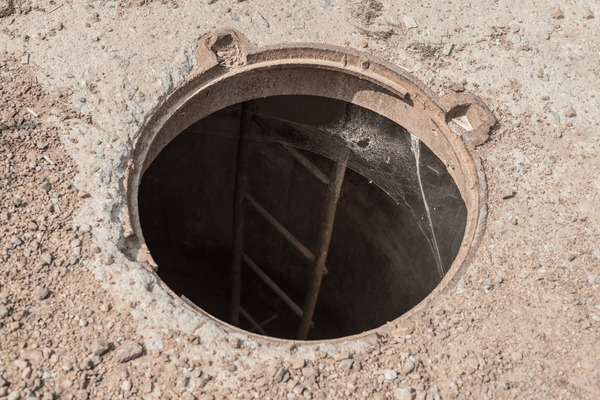open_manhole: (139, 44, 480, 340)
